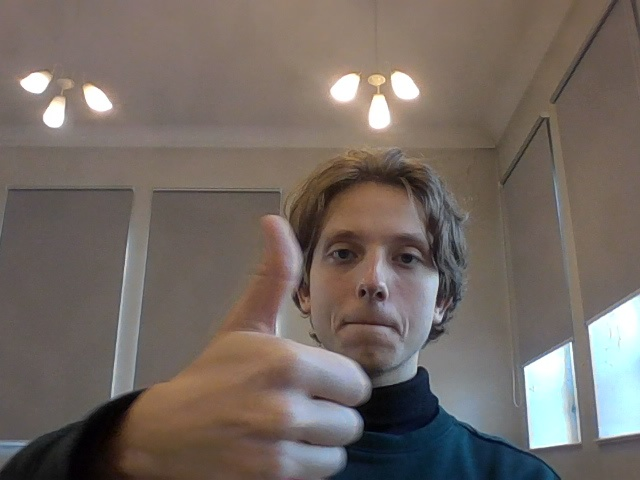thank you: (174, 204, 377, 480)
